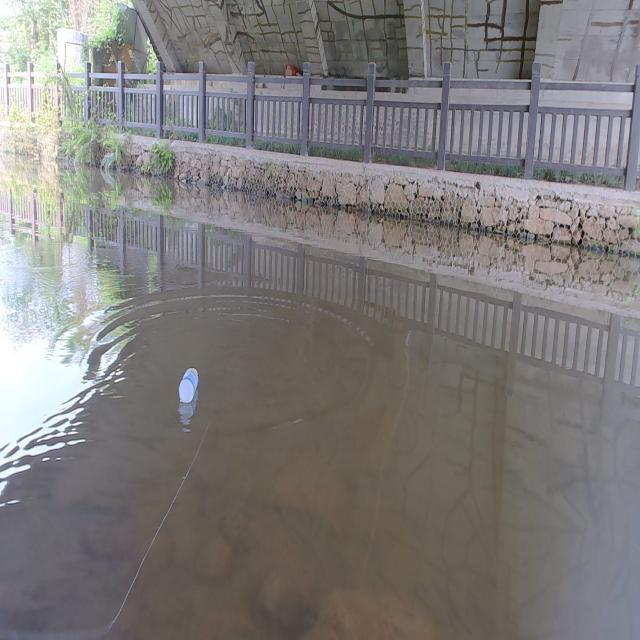bottle: (174, 366, 208, 406)
